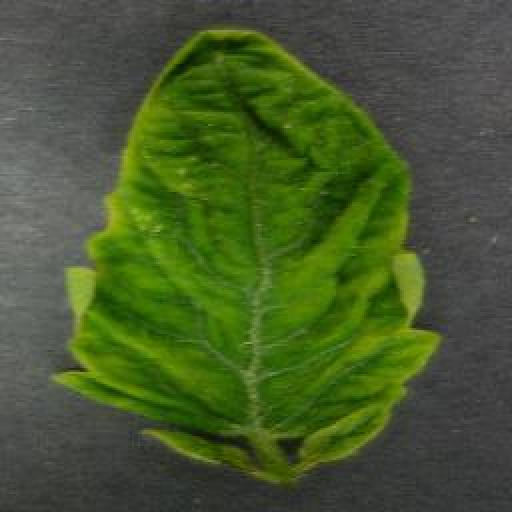Yellow Leaf Curl Virus: (54, 22, 444, 474)
